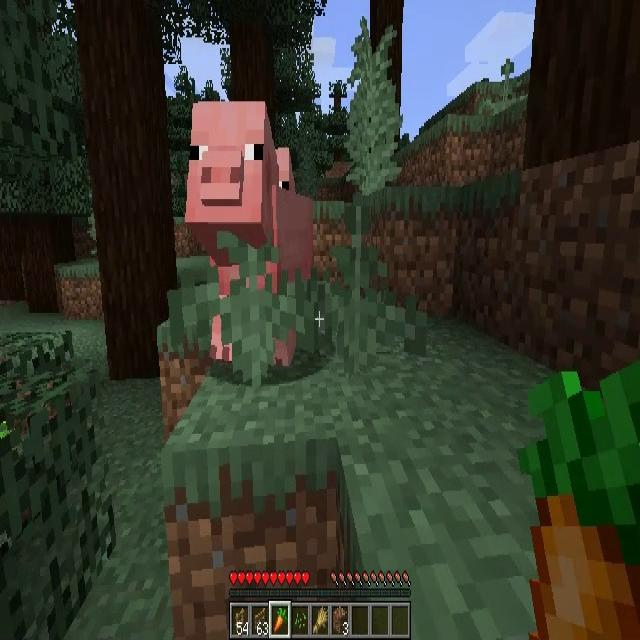pig: (184, 103, 316, 375)
